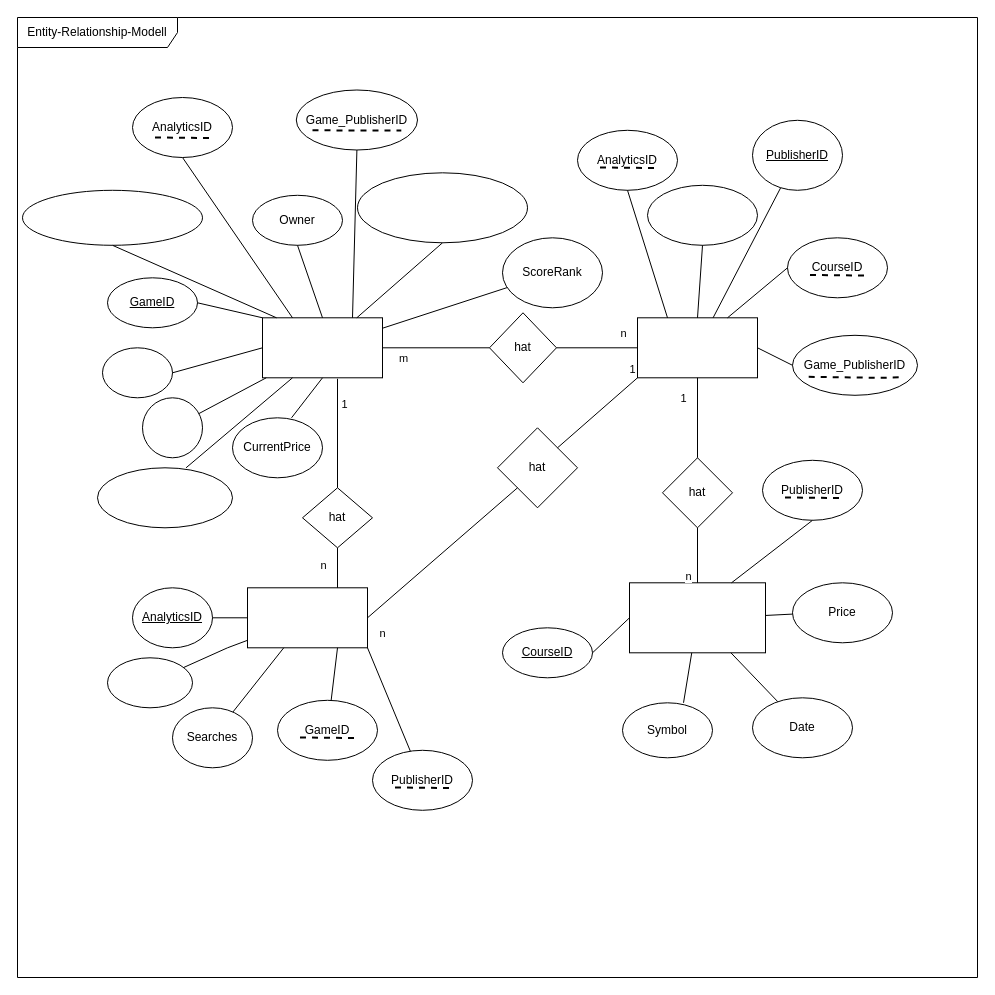
This 995x995 diagram has some shape labels left out. The centre of each missing label's shape, as x and y in pixels:
"Analytics" belongs at pixel 307 617.
"AveragedPlayersForever" belongs at pixel 442 207.
"AveragedPlayersLastTwoWeeks" belongs at pixel 112 217.
"Course" belongs at pixel 697 617.
"Game" belongs at pixel 322 347.
"GameName" belongs at pixel 137 372.
"InitialPrice" belongs at pixel 172 427.
"Month" belongs at pixel 149 682.
"Publisher" belongs at pixel 697 347.
"PublisherName" belongs at pixel 702 214.
"SupportedLanguage" belongs at pixel 164 497.
